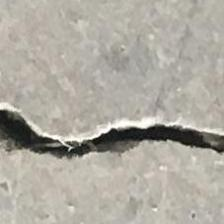Crack: (0, 98, 224, 195)
